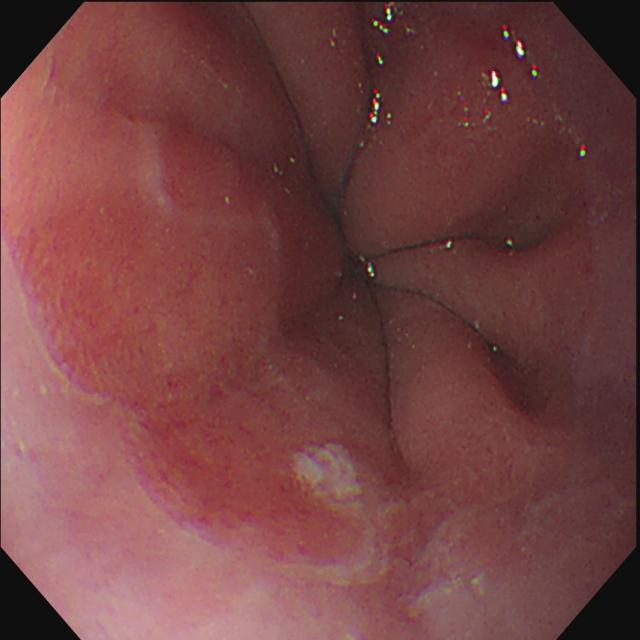I: (39, 2, 593, 555)
J: (294, 445, 365, 516)
